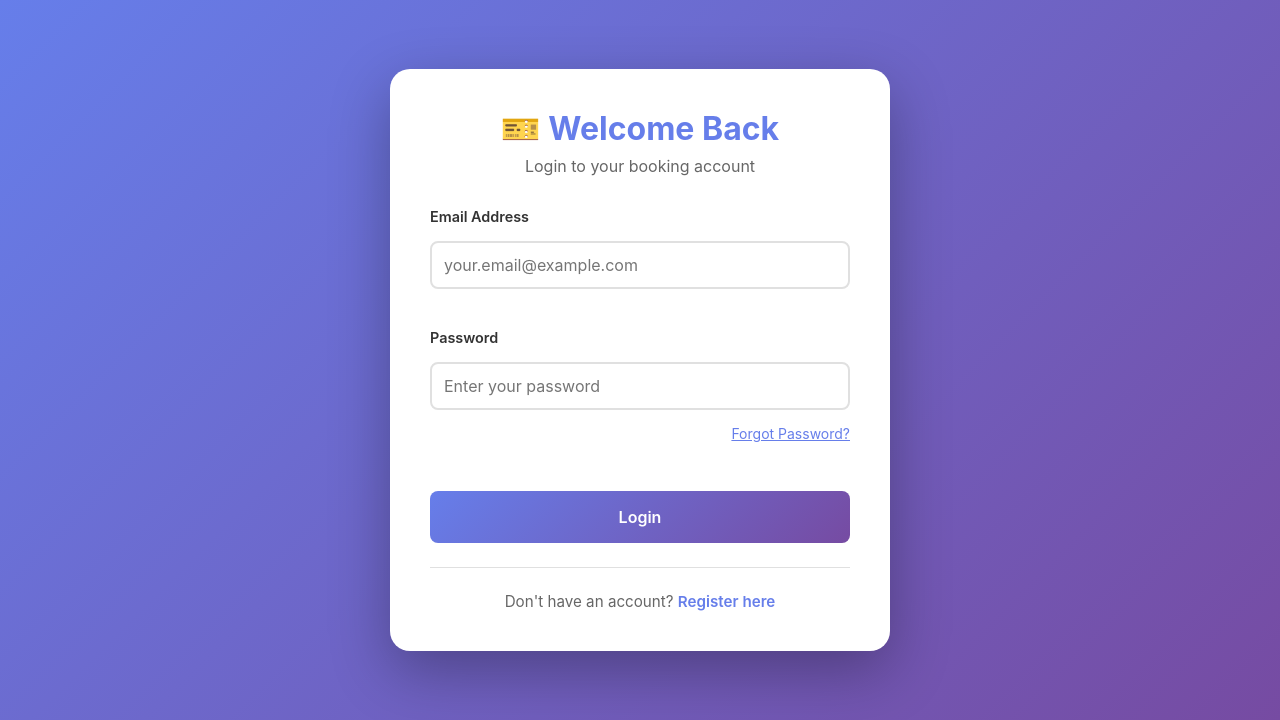
it: Login › shows error on failed login
The image size is (1280, 720).
Type "test@example.com" into the field labelled "Email Address" at (640, 265), box [430,241,850,289]
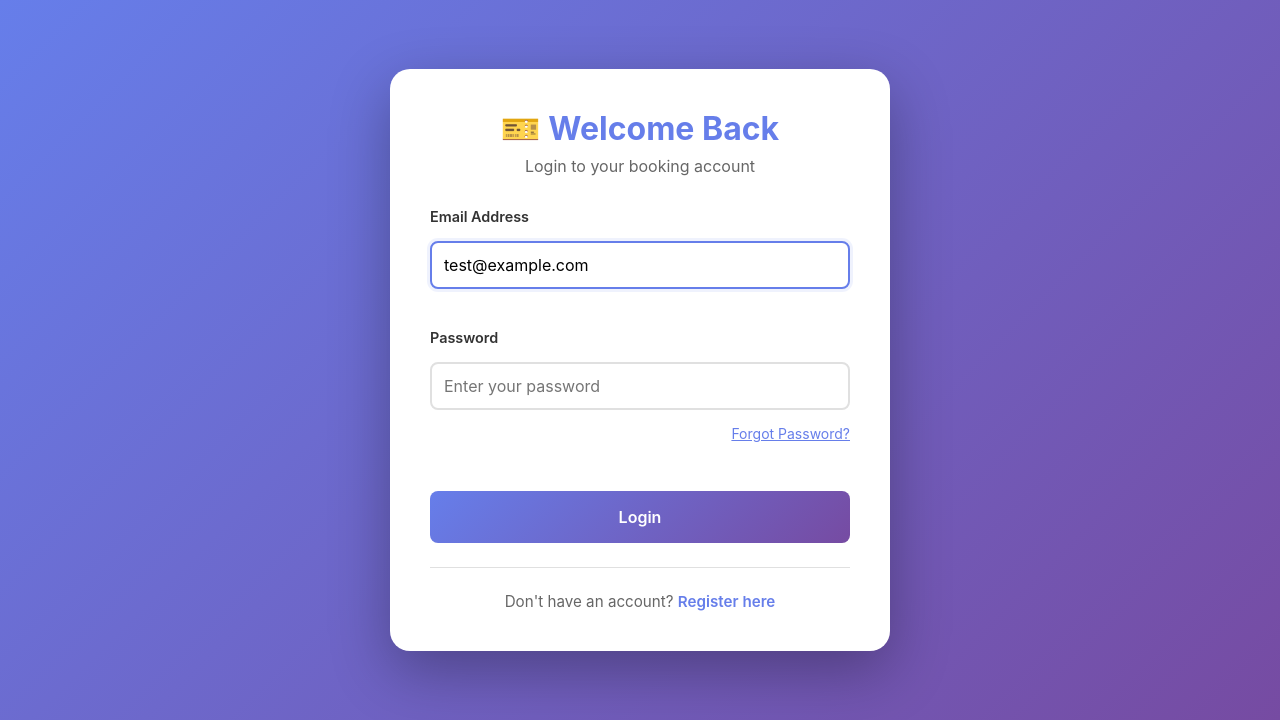
Type "wrongpassword" into the password field labelled "Password" at (640, 386), box [430,362,850,410]
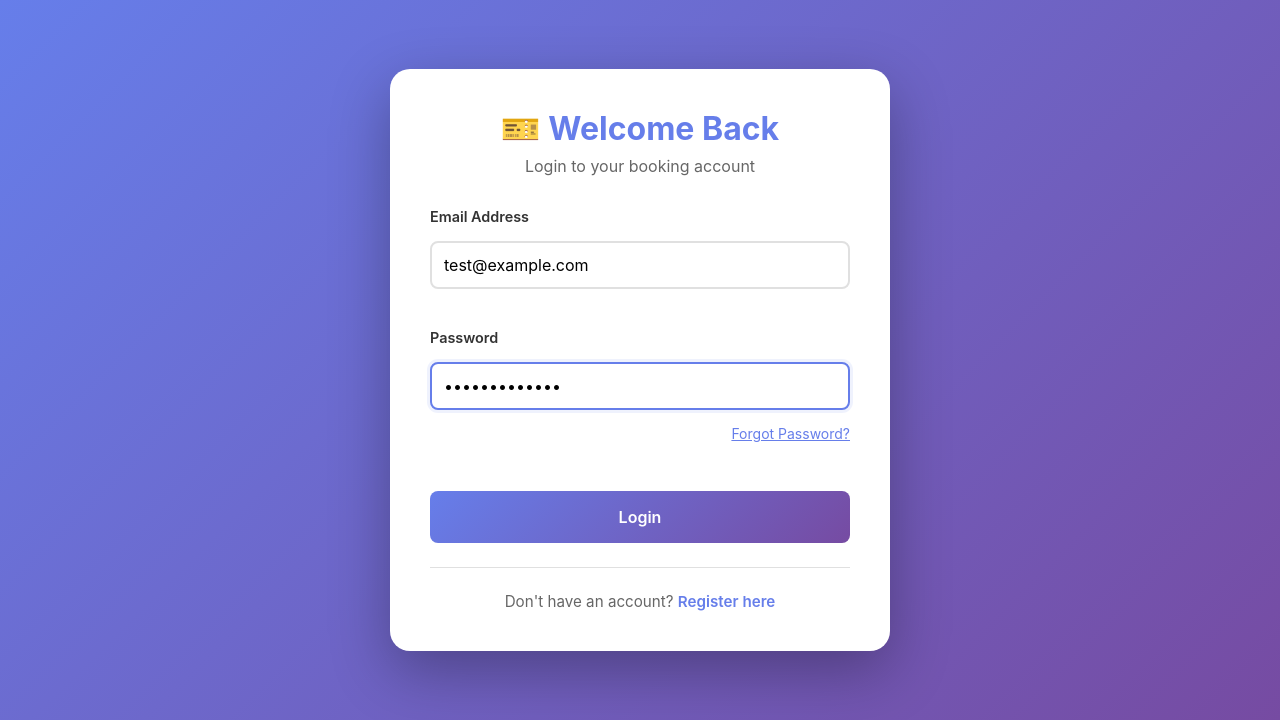
Click the button "Login" at (640, 517), box [430,491,850,543]
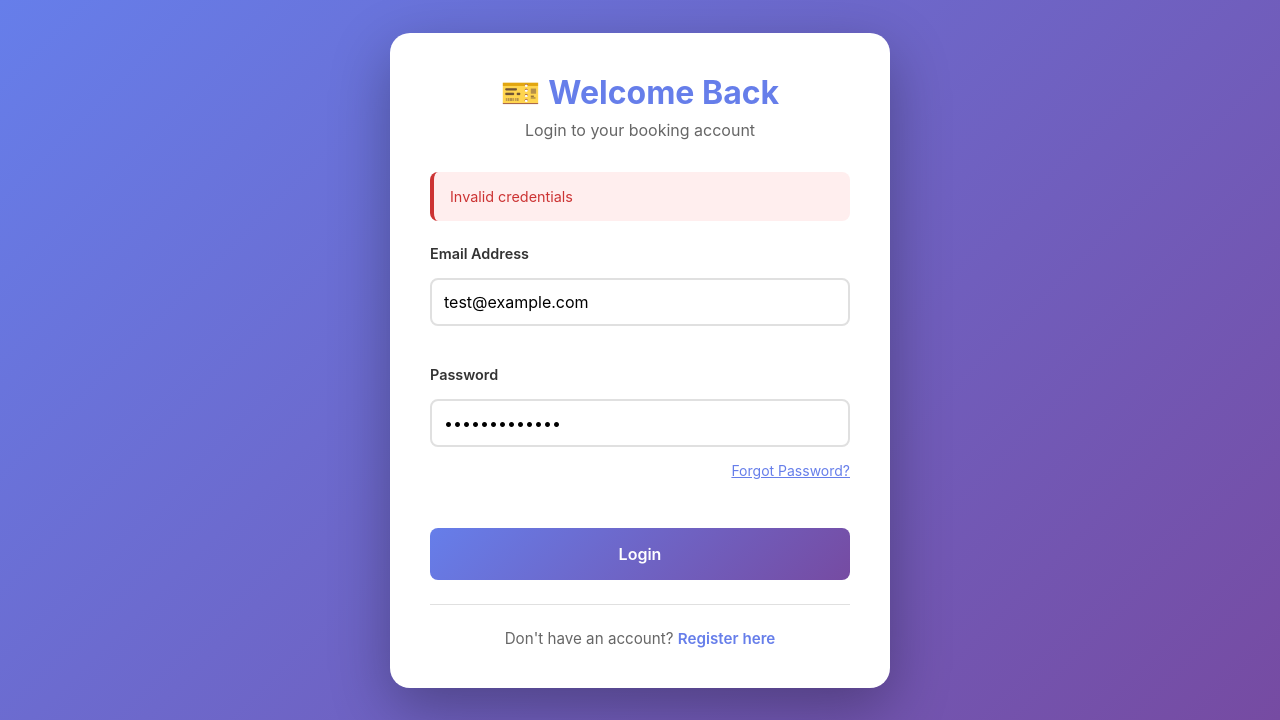
Now the text "Invalid credentials" is shown, box [430,172,850,220]
